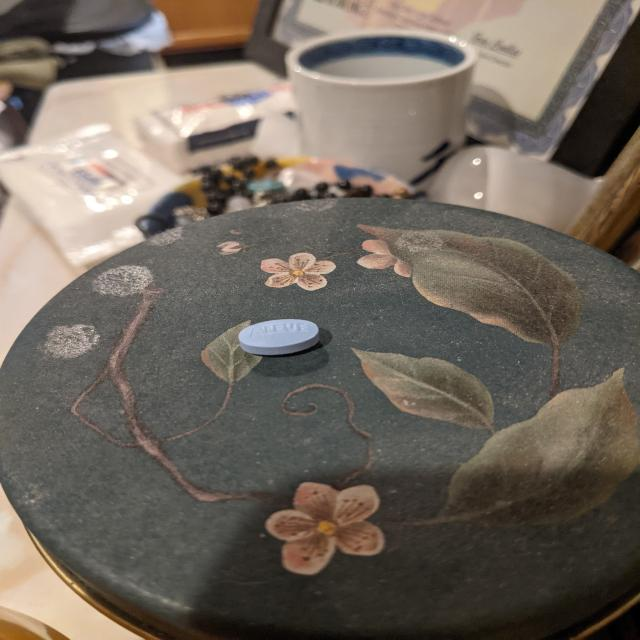non-organic waste: (238, 318, 320, 356)
